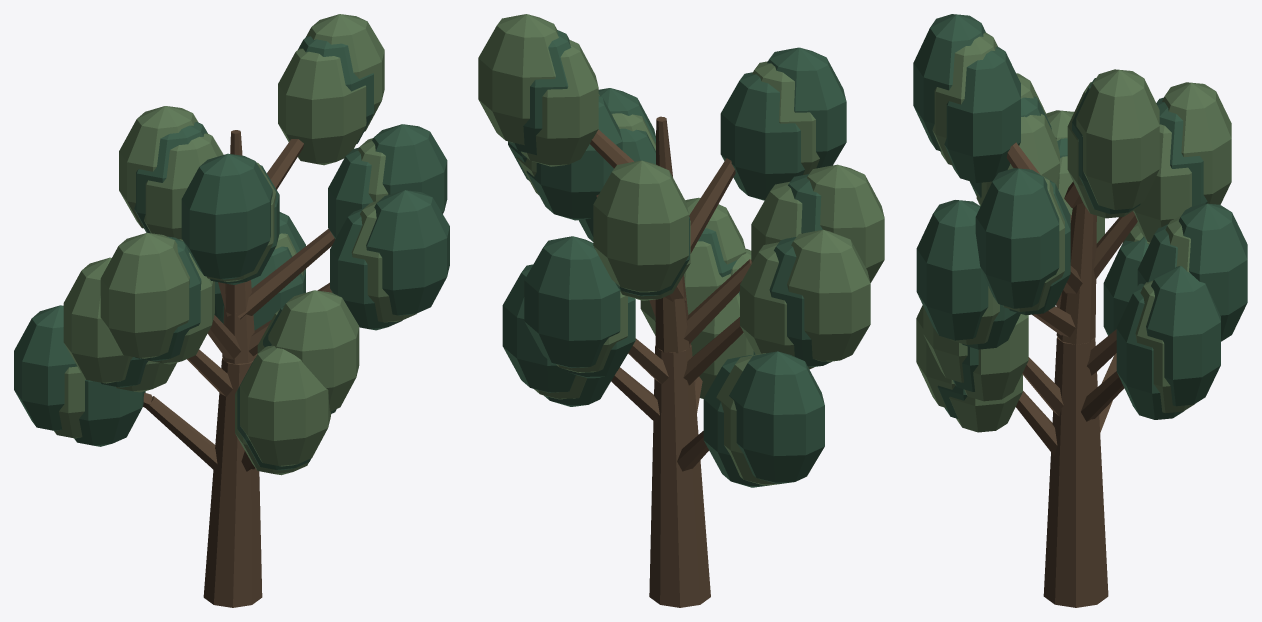
The model's file is pine-natural.glb.
The picture shows the model from 3 angles, left to right: view 1: azimuth 30°, elevation 25°; view 2: azimuth 150°, elevation 25°; view 3: azimuth 270°, elevation 25°; orthographic projection. The views are drawn at different scales.
Visible parts, largest first — view 1: pine-natural-pine-light, pine-natural-pine, pine-natural-bark; view 2: pine-natural-pine-light, pine-natural-pine, pine-natural-bark; view 3: pine-natural-pine, pine-natural-pine-light, pine-natural-bark.
Part boxes in pixels (x1,y1,x2,y2): pine-natural-pine-light: (54, 14, 416, 475); pine-natural-pine: (14, 36, 449, 470); pine-natural-bark: (143, 130, 335, 607); pine-natural-pine-light: (478, 14, 884, 485); pine-natural-pine: (502, 30, 846, 487); pine-natural-bark: (590, 116, 751, 607); pine-natural-pine: (913, 14, 1247, 419); pine-natural-pine-light: (916, 32, 1231, 432); pine-natural-bark: (1006, 142, 1137, 607).
Bounding box in the file's own units: 4.46 × 6.36 × 3.25.
